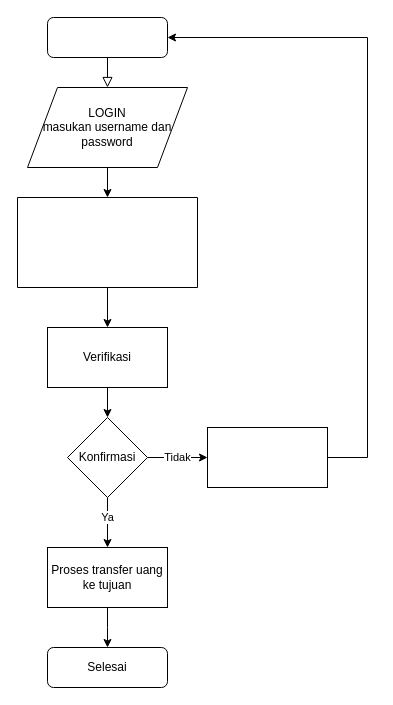
Some shapes in this 393 by 705 pixel diagram are drawn without their labels. The shapes that lost their labels are listed below. From the top down, each one's box as (x1, y1, x2, y2) in pixels, then its label:
(46, 16, 168, 58): START
(16, 196, 198, 288): Pilih tujuan tranfer,rekening tujuan, masukan jumlah transfer,
(206, 426, 328, 488): proses transfer dibatalkan
